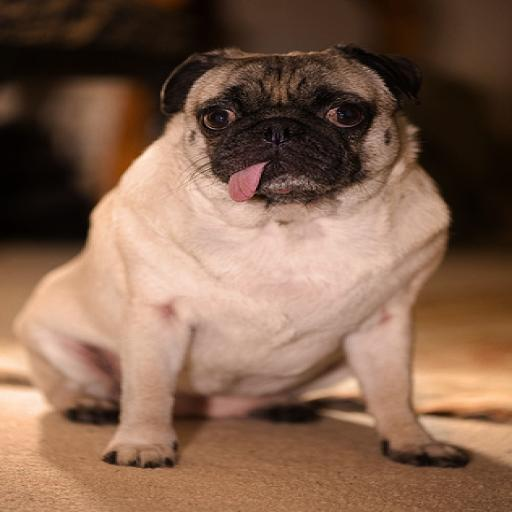dog_face: (157, 45, 425, 212)
